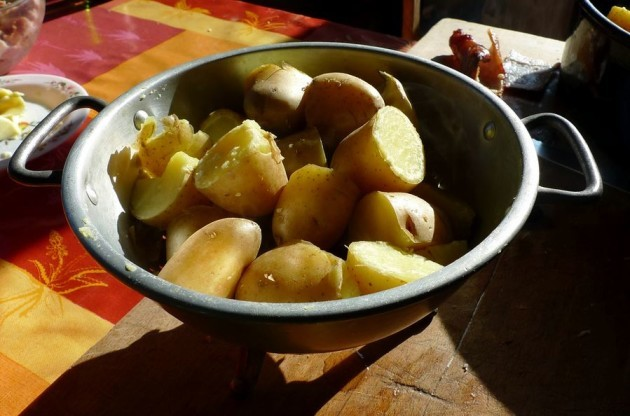boiled potatoes: (174, 127, 433, 273)
